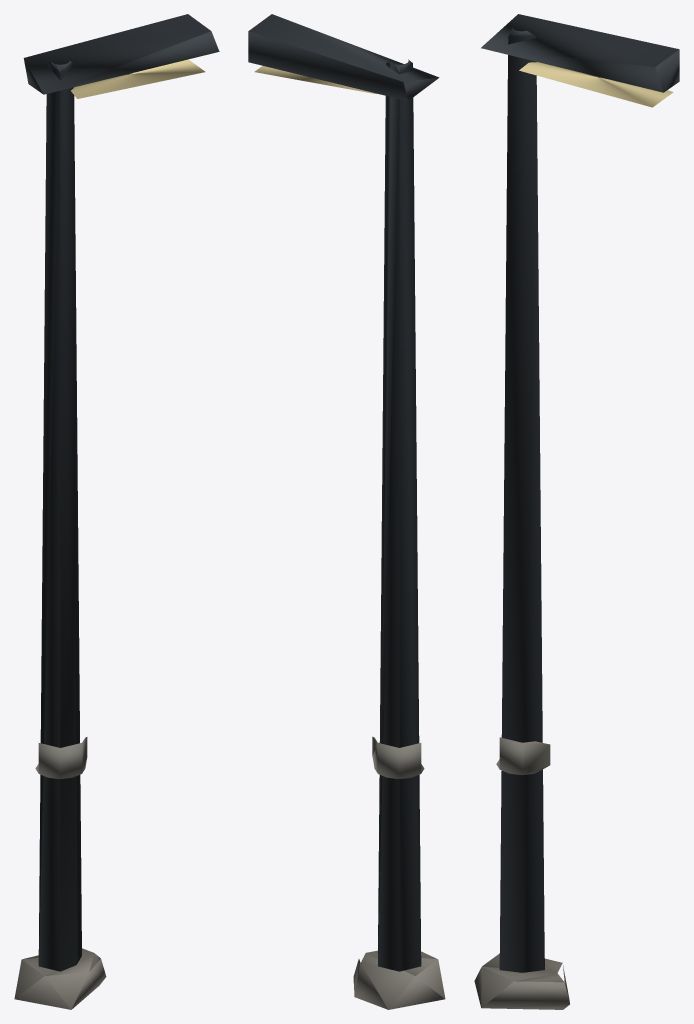
File: street-lamp-v1.lod2.glb
3 views of the same model, side by side, from view 1: azimuth 30°, elevation 25°; view 2: azimuth 150°, elevation 25°; view 3: azimuth 330°, elevation 25° (orthographic). The views are drawn at different scales.
Parts seen in each view (by area): view 1: street-lamp-v1.lod2; view 2: street-lamp-v1.lod2; view 3: street-lamp-v1.lod2.
Boxes of the visible parts, <box> form: street-lamp-v1.lod2: <box>14,14,219,1009</box>; street-lamp-v1.lod2: <box>248,14,445,1009</box>; street-lamp-v1.lod2: <box>474,14,679,1009</box>.
Bounding box in the file's own units: 1.43 × 6.63 × 0.6467.
